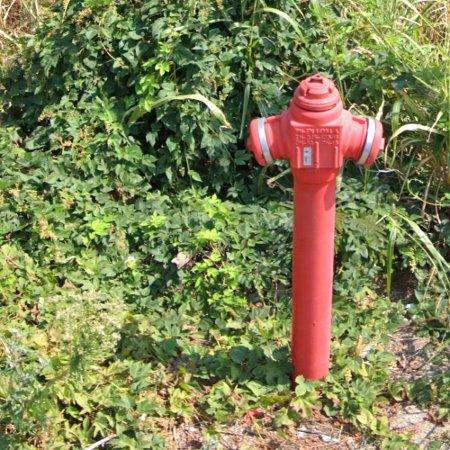a fire hydrant: (248, 74, 385, 379)
